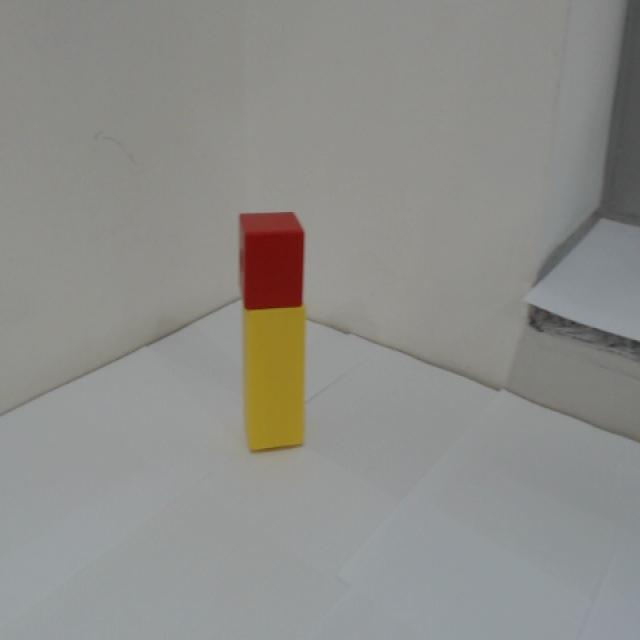cube: (235, 211, 310, 309)
